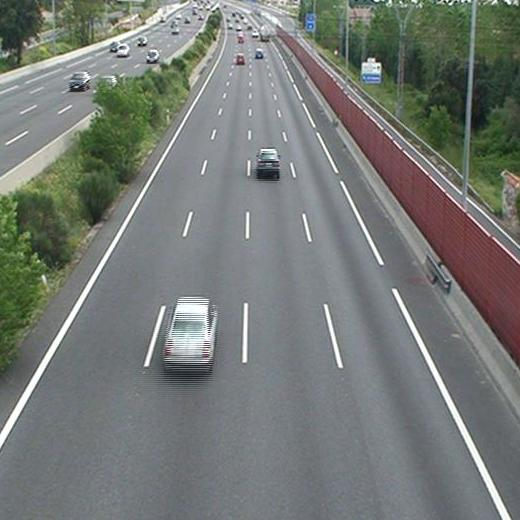car: (164, 299, 216, 366), (257, 149, 279, 173), (255, 50, 264, 58), (236, 55, 245, 63)
